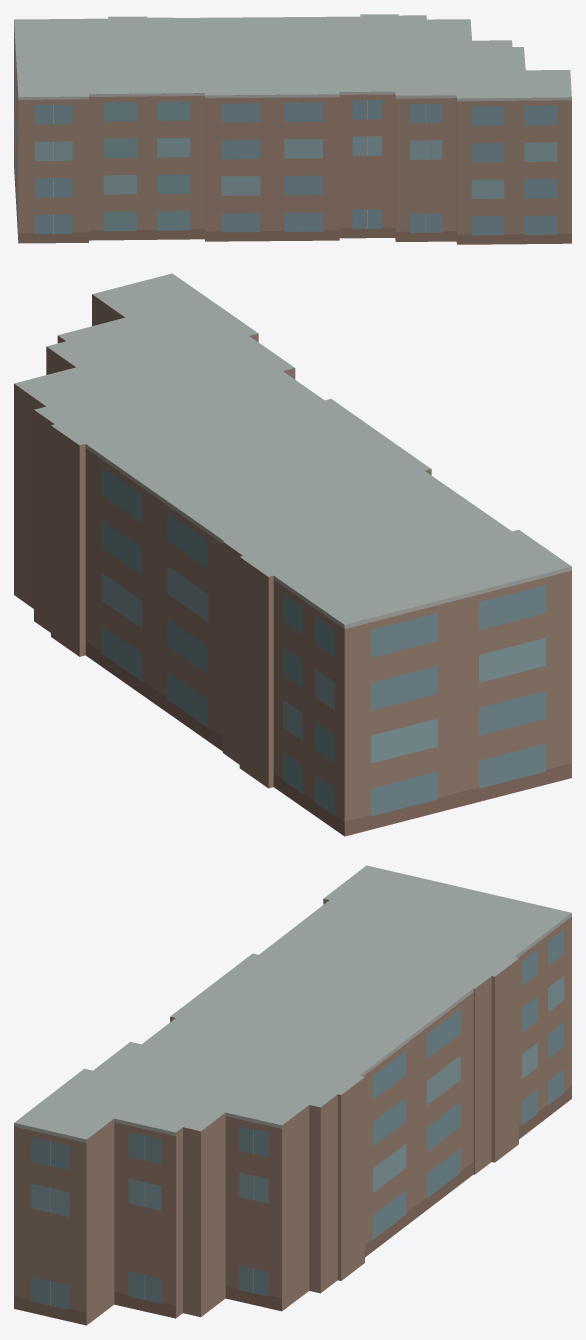
Rendered from survey-upis-33017797.glb.
The picture shows the model from 3 angles, top to bottom: view 1: azimuth 30°, elevation 25°; view 2: azimuth 150°, elevation 25°; view 3: azimuth 270°, elevation 25°; orthographic projection. The views are drawn at different scales.
Parts seen in each view (by area): view 1: survey-upis-33017797.tmp; view 2: survey-upis-33017797.tmp; view 3: survey-upis-33017797.tmp.
Boxes of the visible parts, <box> form: survey-upis-33017797.tmp: <box>14,14,571,244</box>; survey-upis-33017797.tmp: <box>14,273,571,836</box>; survey-upis-33017797.tmp: <box>14,865,571,1325</box>.
Bounding box in the file's own units: 39.34 × 12.44 × 33.83.
